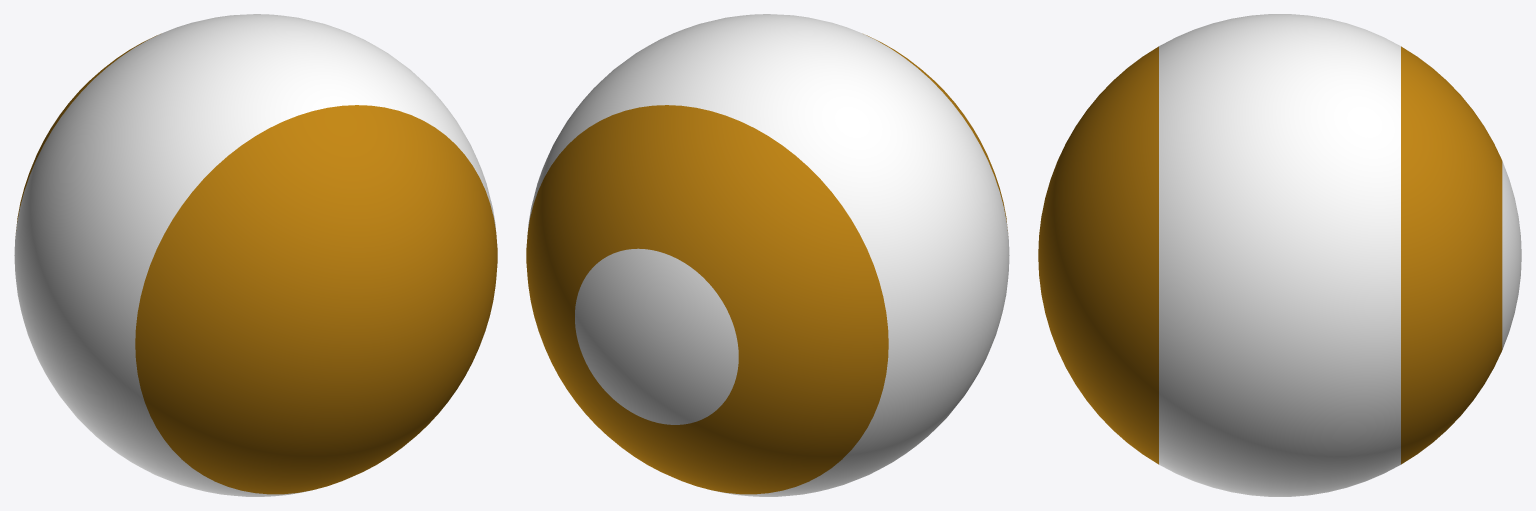
Rendered from 9Ball.dae.
The picture shows the model from 3 angles, left to right: view 1: azimuth 30°, elevation 25°; view 2: azimuth 150°, elevation 25°; view 3: azimuth 270°, elevation 25°; orthographic projection.
Bounding box in the file's own units: 0.0571 × 0.0572 × 0.0571.
